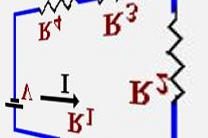resistor: (166, 11, 190, 103), (29, 0, 81, 6)
